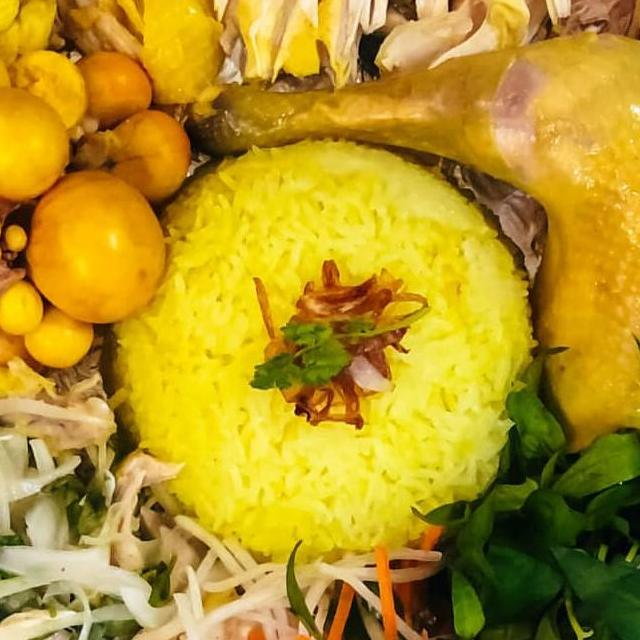com: (100, 126, 542, 579)
com ga: (0, 0, 640, 640)
rau ram: (418, 371, 640, 611)
thit ga: (0, 0, 640, 131)
thit heo: (129, 19, 640, 472)
trung: (0, 0, 200, 431), (0, 79, 76, 211)
